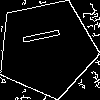I: (21, 23, 70, 47)
